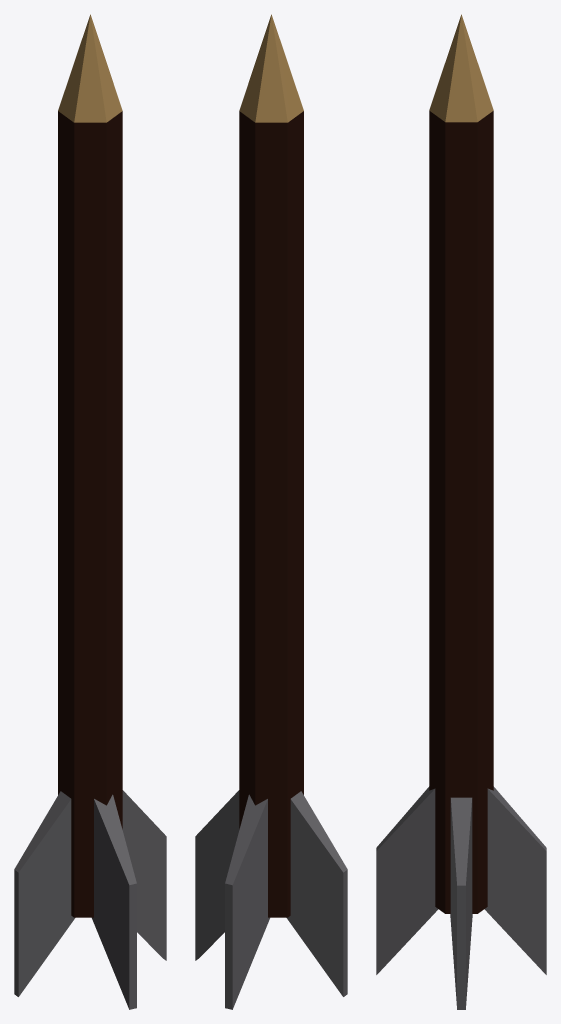
File: arrow.obj
The picture shows the model from 3 angles, left to right: view 1: azimuth 30°, elevation 25°; view 2: azimuth 150°, elevation 25°; view 3: azimuth 270°, elevation 25°; orthographic projection.
Parts seen in each view (by area): view 1: wooden_arrow; view 2: wooden_arrow; view 3: wooden_arrow.
Boxes of the visible parts, x1,y1,x2,y2 form: wooden_arrow: (14, 14, 166, 1009); wooden_arrow: (195, 14, 347, 1009); wooden_arrow: (376, 14, 546, 1009).
Size of the model in its own units: 0.528 by 3.28 by 0.5282.
